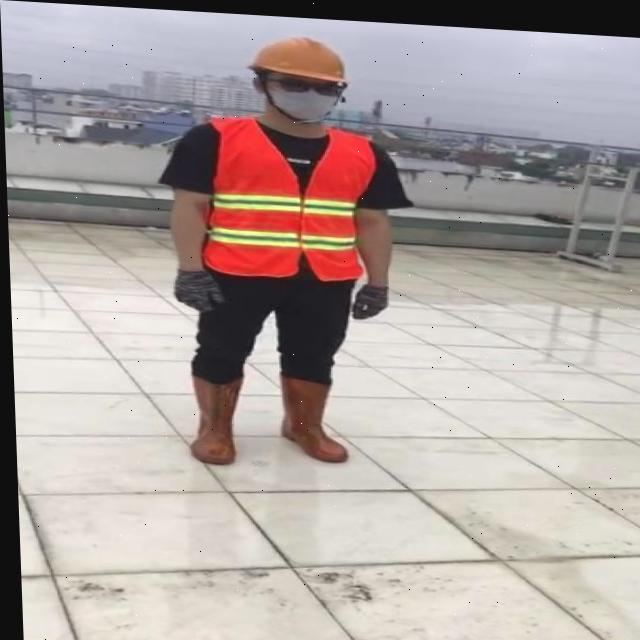Gloves: (172, 265, 225, 312), (349, 278, 388, 316)
Helmet: (247, 30, 349, 83)
Safety-Boot: (277, 368, 346, 459), (185, 367, 244, 463)
Safety-Vest: (196, 110, 380, 281)
